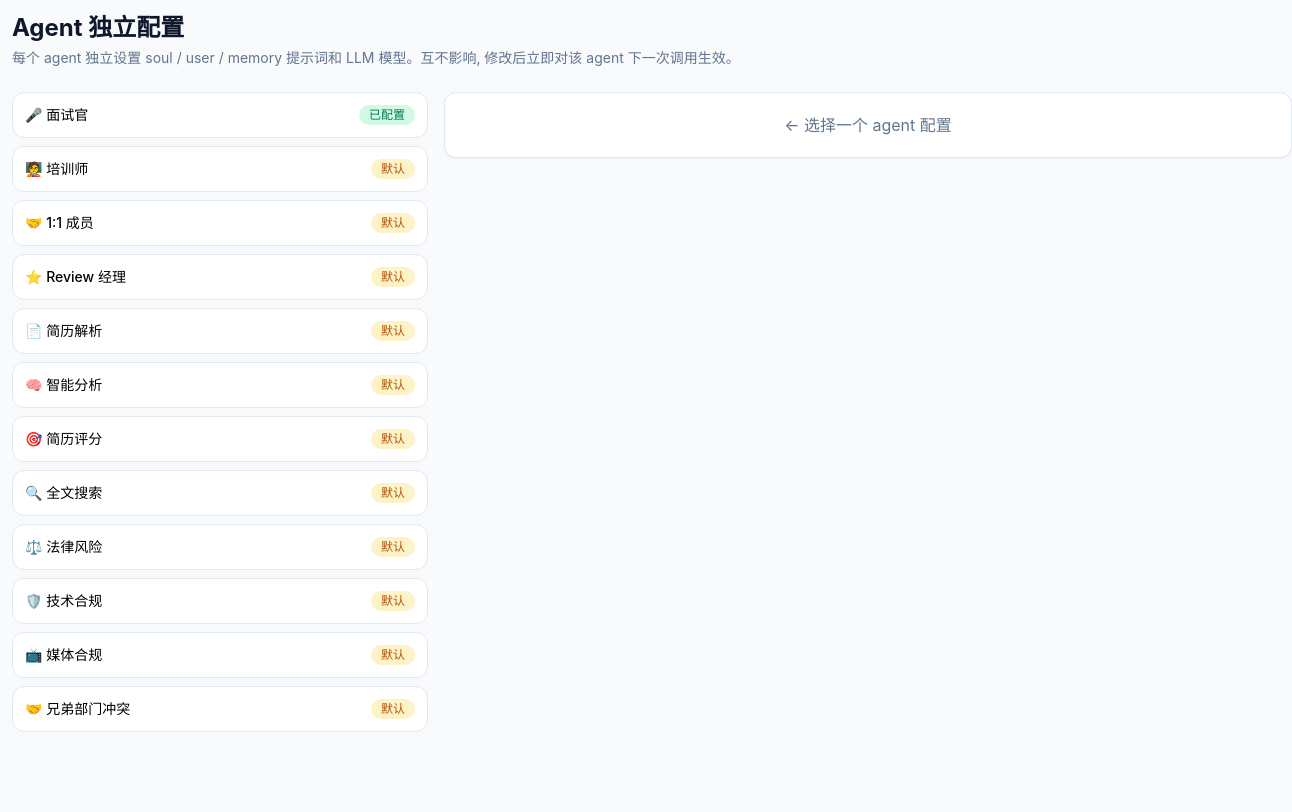
it: V34 AgentConfig page › opens editor with existing config when clicking configured kind
The width and height of the screenshot is (1292, 812).
Expected: the element with test id "agent-config-list" is shown, [12,92,428,732]
Click the text "🎤 面试官". click: (57, 115)
box: [25,105,88,125]
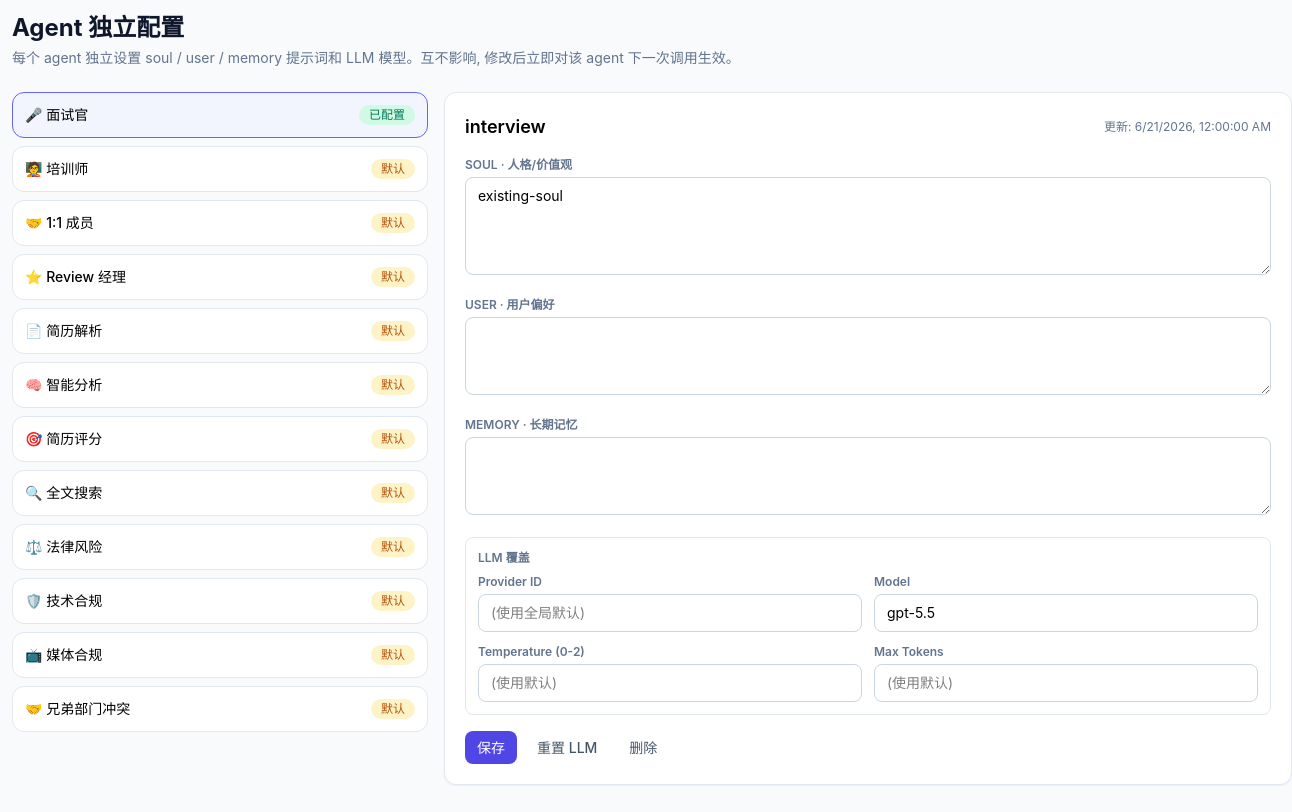
Now the element with test id "agent-config-editor-interview" is shown, box [444,92,1291,785]
Now the text box with test id "agent-config-soul-interview" holds "existing-soul", box [465,177,1271,275]
